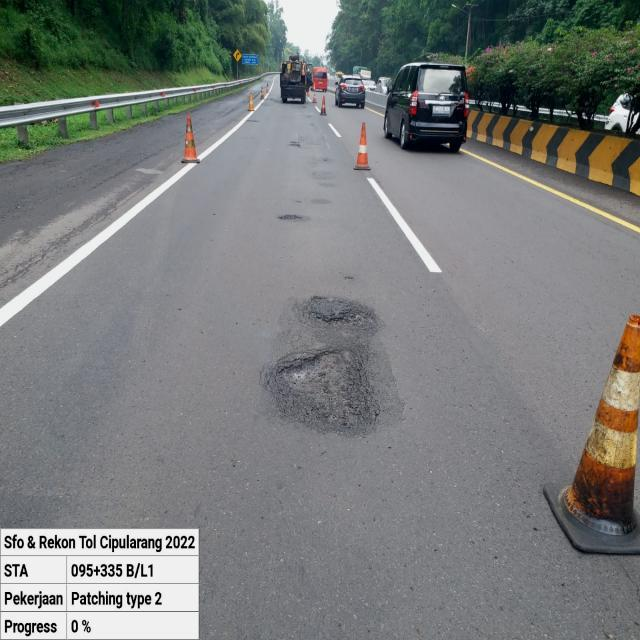Buraco: (274, 345, 365, 429), (306, 304, 380, 332), (276, 213, 304, 222)
